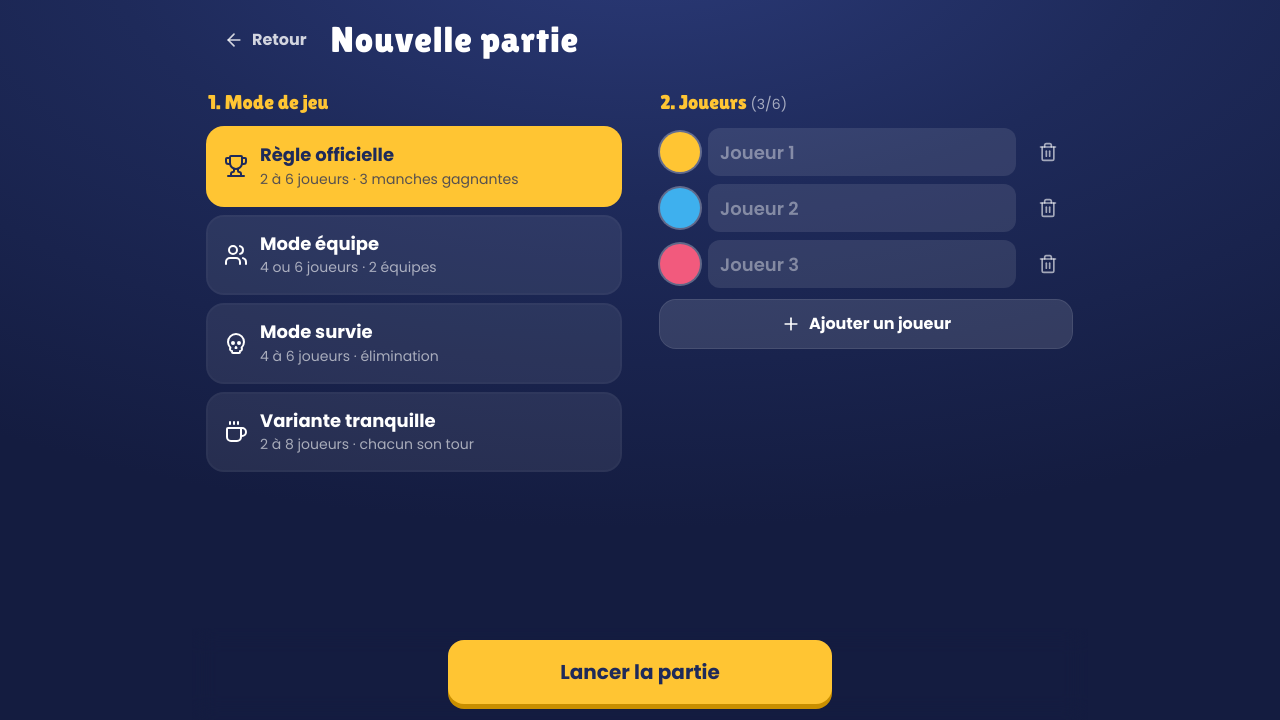
Test: parcours règle officielle › crée les joueurs, joue plusieurs tours avec malus et relances
Earlier steps of the test are not shown.
Later steps or results of the test are not shown.
Click the button "Règle officielle 2 à 6 joueurs · 3 manches gagnantes": (414, 166) x1=208 y1=128 x2=620 y2=204
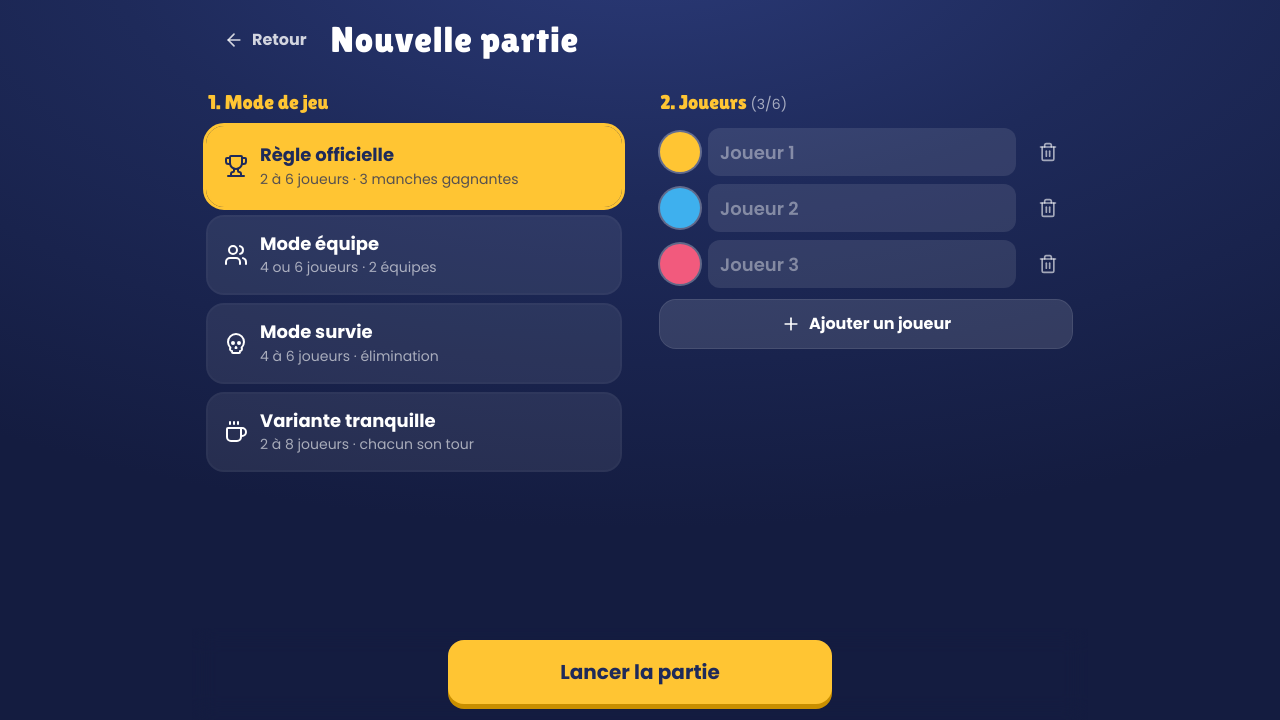
In the field with placeholder "Joueur 1": (862, 152) x1=708 y1=128 x2=1016 y2=176, type "Alice"
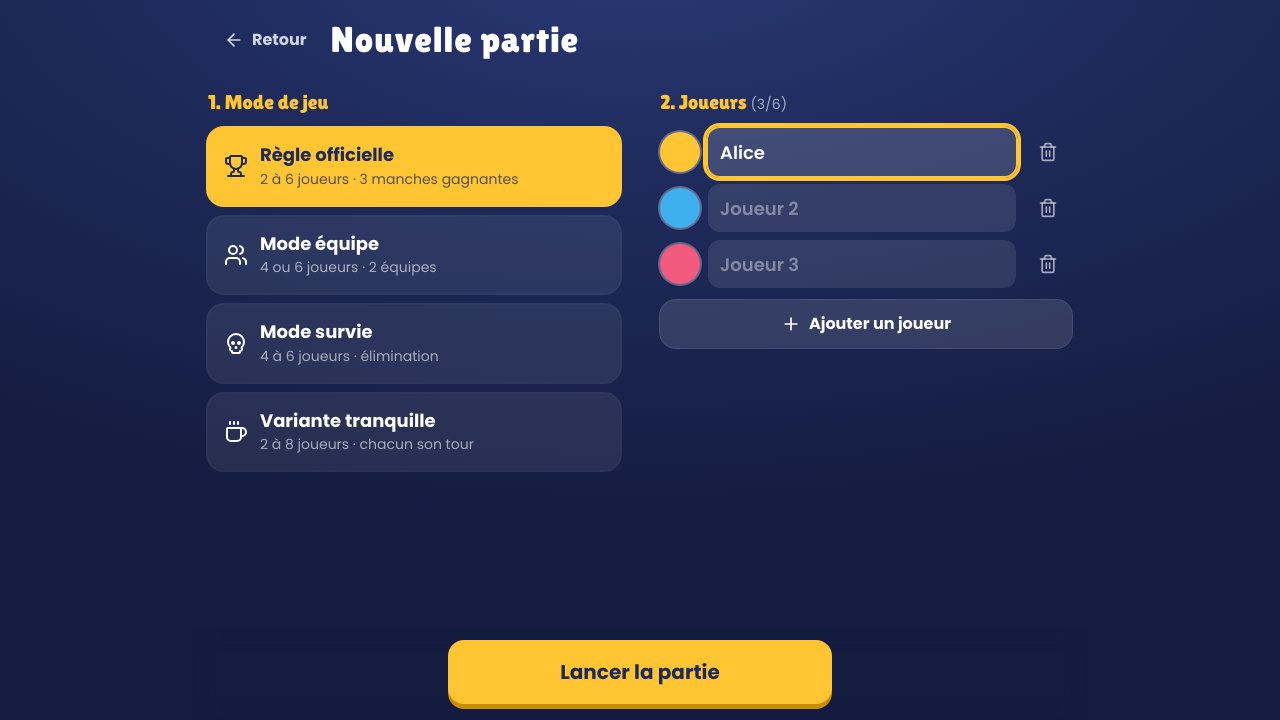
In the field with placeholder "Joueur 2": (862, 208) x1=708 y1=184 x2=1016 y2=232, type "Bob"
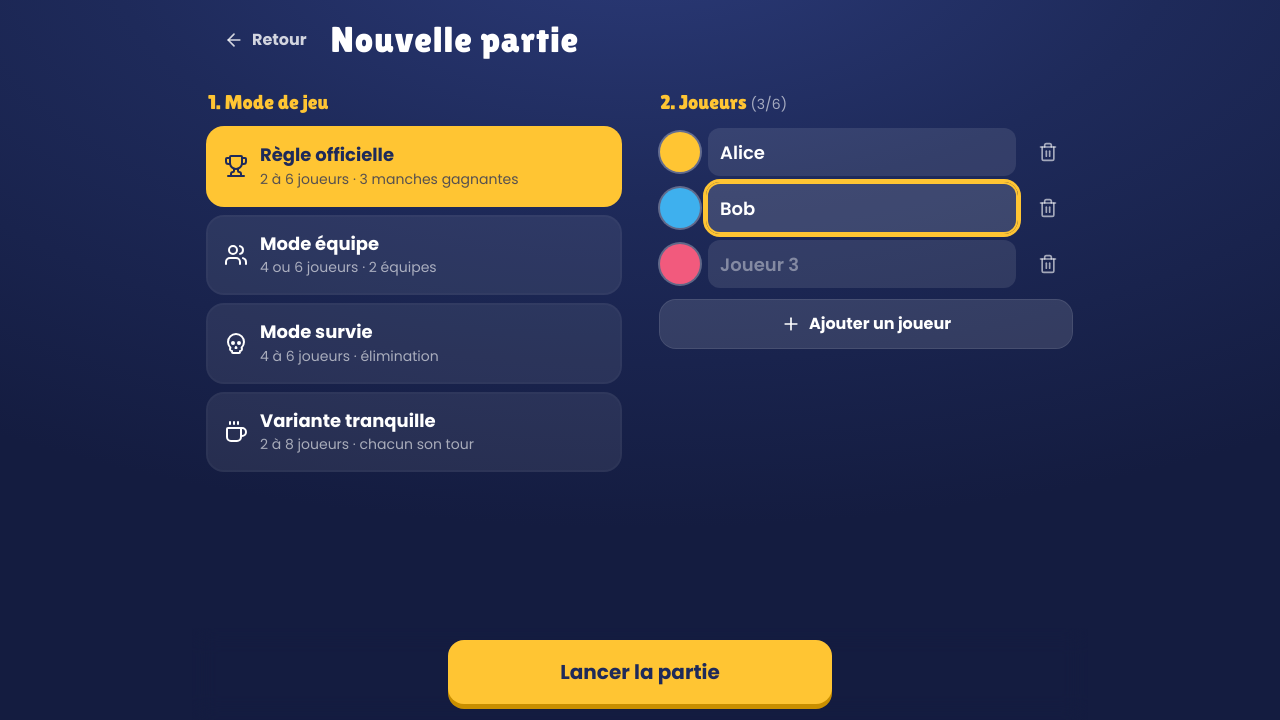
In the field with placeholder "Joueur 3": (862, 264) x1=708 y1=240 x2=1016 y2=288, type "Carl"
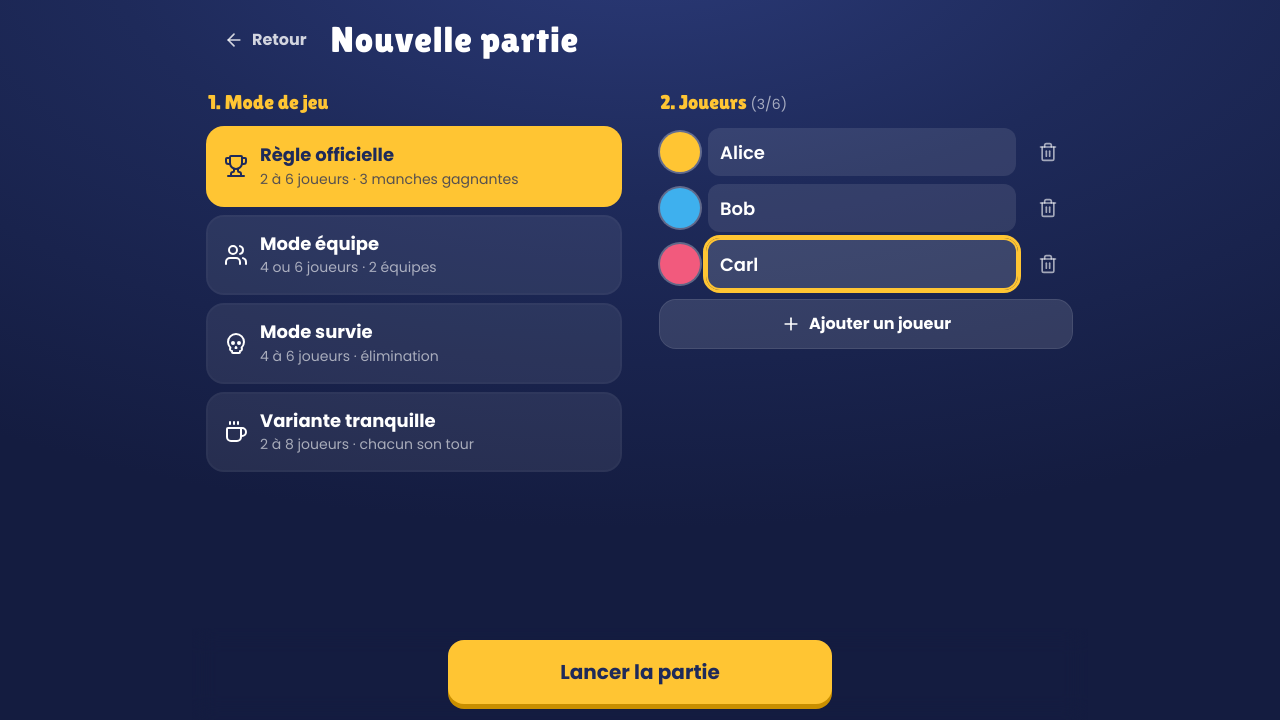
Click the button "Lancer la partie": (640, 672) x1=448 y1=640 x2=832 y2=704
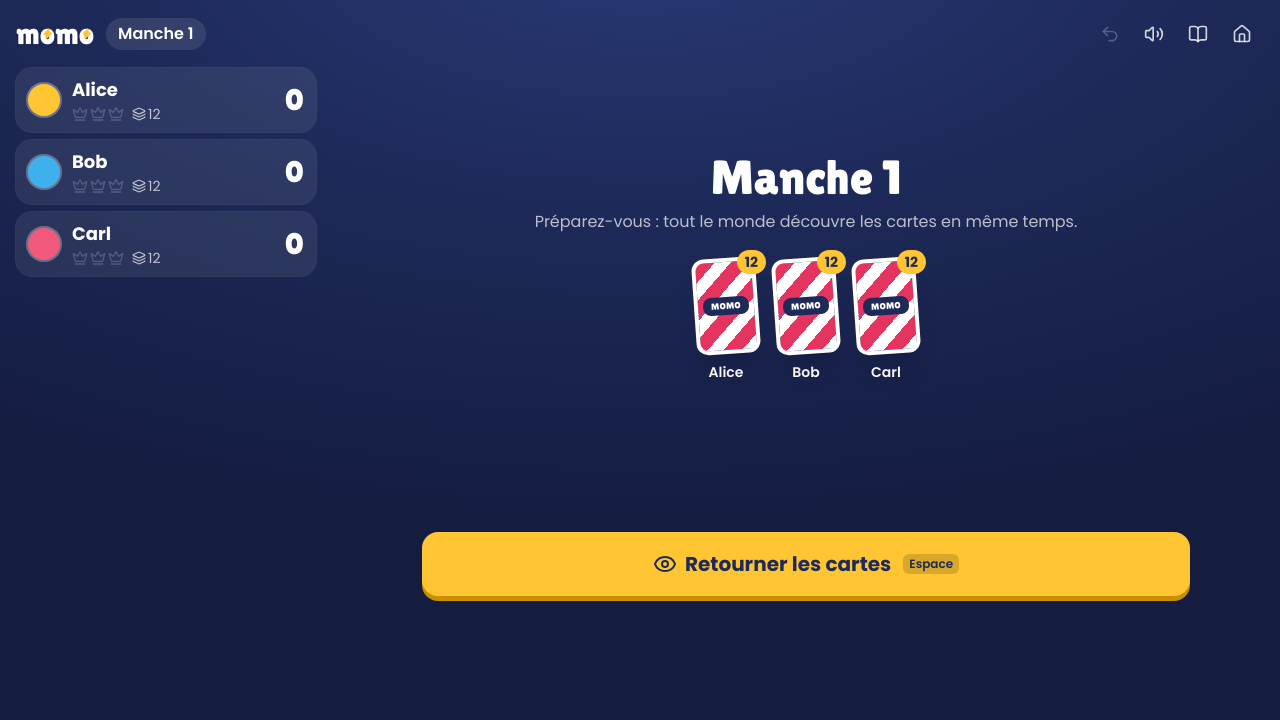
Expected: the text with test id "game-subtitle" reads "Manche 1", x1=118 y1=22 x2=194 y2=45
Expected: the list item with test id "score-Alice" is shown, x1=16 y1=68 x2=316 y2=132
Click the button "Retourner les cartes Espace": (806, 564) x1=422 y1=532 x2=1190 y2=596
Wait 3250 ms
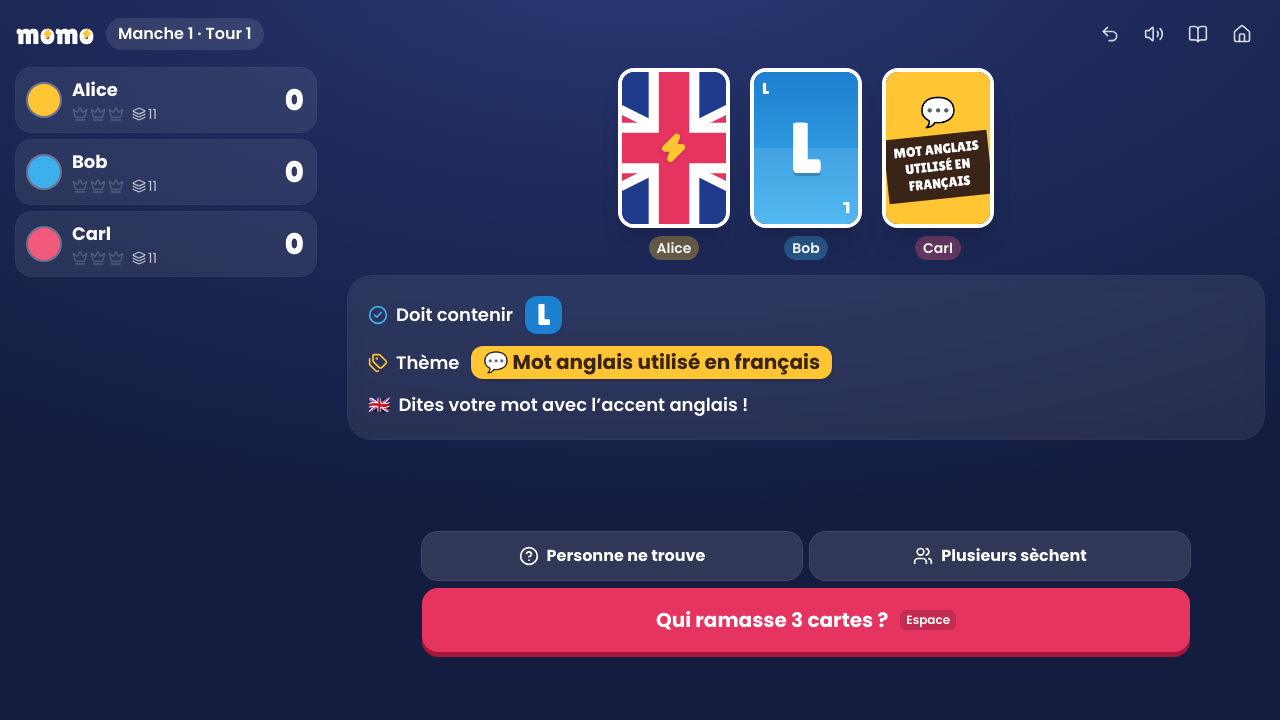
Expected: the number of elements with test id "momo-card" is 3, x1=618 y1=68 x2=730 y2=260; x1=750 y1=68 x2=862 y2=260; x1=882 y1=68 x2=994 y2=260
Expected: the element with test id "constraints" is shown, x1=348 y1=276 x2=1264 y2=439
Expected: the text with test id "game-subtitle" shows "Tour 1", x1=118 y1=22 x2=252 y2=45
